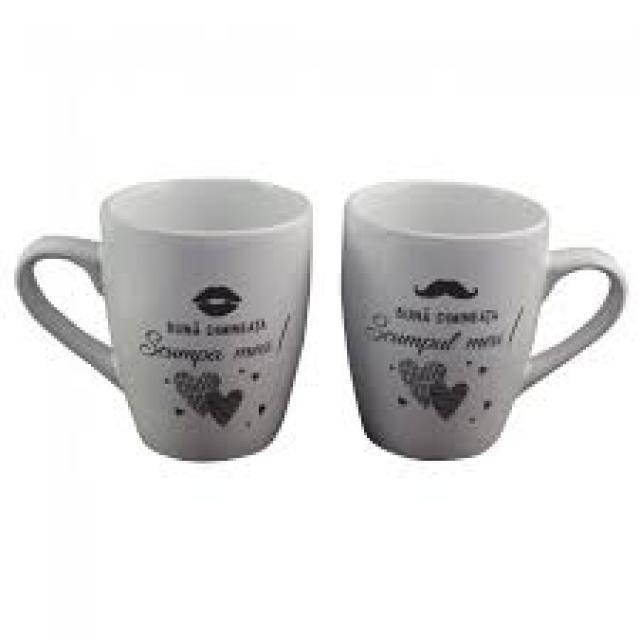taza: (10, 163, 319, 478), (335, 160, 630, 466)
